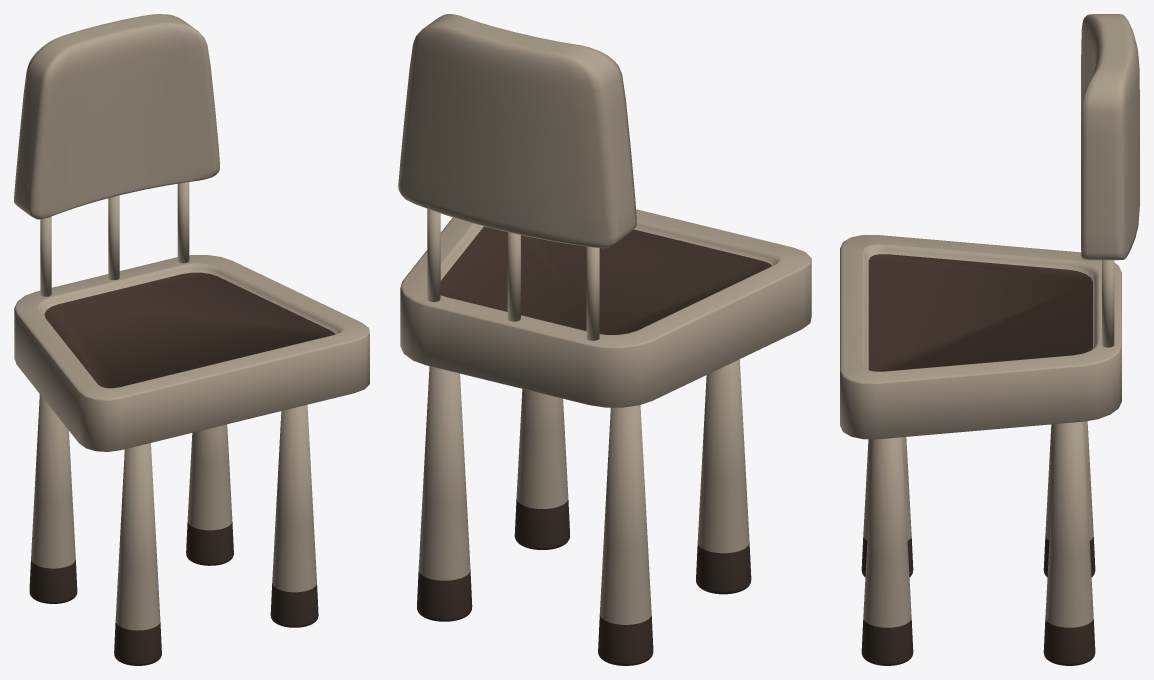
File: chair.fbx
The picture shows the model from 3 angles, left to right: view 1: azimuth 30°, elevation 25°; view 2: azimuth 150°, elevation 25°; view 3: azimuth 270°, elevation 25°; orthographic projection. The views are drawn at different scales.
Parts seen in each view (by area): view 1: chair_sitting2, chair_top2, chair_legs2, chair_cylinder2; view 2: chair_sitting2, chair_top2, chair_legs2, chair_cylinder2; view 3: chair_sitting2, chair_legs2, chair_top2, chair_cylinder2.
Boxes of the visible parts, x1,y1,x2,y2 form: chair_sitting2: [14, 255, 369, 451]; chair_top2: [14, 14, 219, 219]; chair_legs2: [29, 394, 318, 665]; chair_cylinder2: [40, 182, 189, 296]; chair_sitting2: [400, 209, 811, 407]; chair_top2: [398, 14, 636, 248]; chair_legs2: [417, 359, 751, 665]; chair_cylinder2: [427, 209, 599, 340]; chair_sitting2: [840, 235, 1121, 439]; chair_legs2: [861, 421, 1095, 665]; chair_top2: [1081, 14, 1139, 260]; chair_cylinder2: [1102, 260, 1114, 347].
Bounding box in the file's own units: 64.25 × 115 × 54.69.
